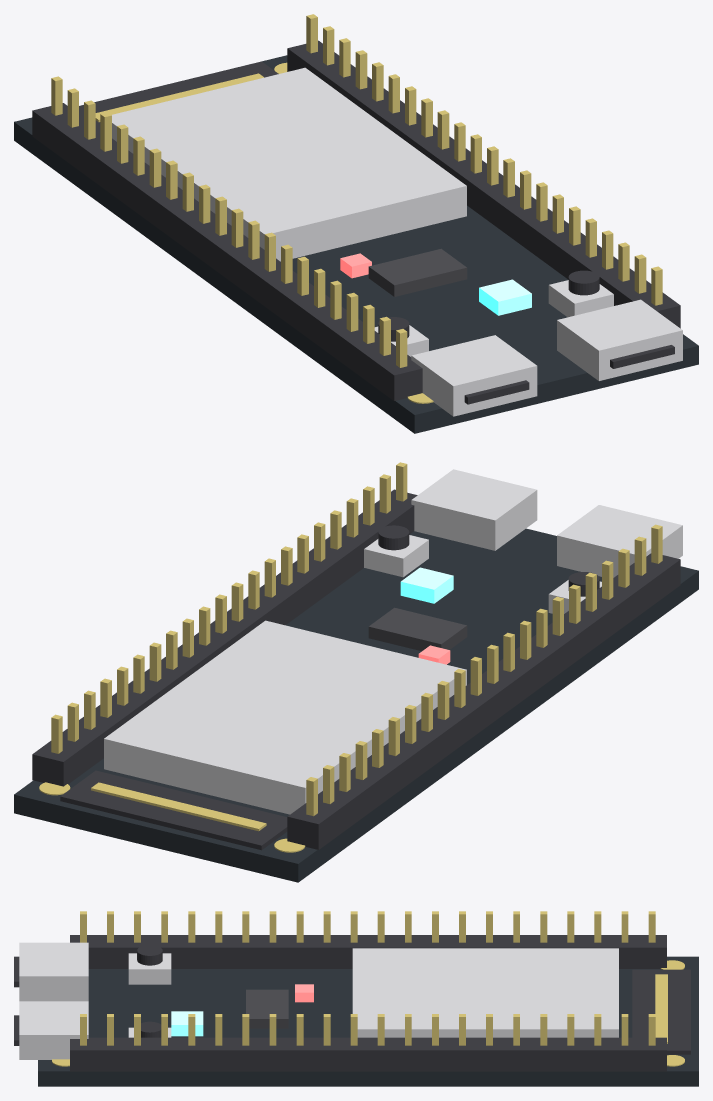
The model's file is esp32_s3_devkitc1_v1_1.glb.
3 renders of one model, top to bottom at view 1: azimuth 30°, elevation 25°; view 2: azimuth 150°, elevation 25°; view 3: azimuth 270°, elevation 25°, orthographic. The views are drawn at different scales.
Visible parts, largest first — view 1: ESP32_S3_Shield, ESP32_S3_PCB, Header_J1_Base, Header_J3_Base, USB_UART, USB_OTG, LDO_Regulator, PCB_Antenna_Keepout, Button_BOOT_Base, WS2812_RGB_LED, Antenna_Trace, Button_BOOT_Cap (+2 smaller); view 2: ESP32_S3_Shield, ESP32_S3_PCB, Header_J1_Base, Header_J3_Base, USB_UART, PCB_Antenna_Keepout, USB_OTG, LDO_Regulator, Antenna_Trace, Button_BOOT_Base, WS2812_RGB_LED, Button_BOOT_Cap; view 3: ESP32_S3_PCB, ESP32_S3_Shield, Header_J3_Base, Header_J1_Base, USB_OTG, USB_UART, PCB_Antenna_Keepout, LDO_Regulator, Button_RESET_Base, Antenna_Trace, WS2812_RGB_LED, Button_RESET_Cap (+2 smaller).
Part boxes in pixels (x1,y1,x2,y2): ESP32_S3_Shield: (112, 67, 466, 261); ESP32_S3_PCB: (14, 55, 698, 433); Header_J1_Base: (32, 103, 422, 400); Header_J3_Base: (287, 40, 680, 328); USB_UART: (557, 299, 682, 380); USB_OTG: (411, 335, 537, 416); LDO_Regulator: (368, 248, 467, 296); PCB_Antenna_Keepout: (79, 61, 278, 129); Button_BOOT_Base: (548, 280, 613, 317); WS2812_RGB_LED: (479, 279, 531, 315); Antenna_Trace: (95, 73, 263, 122); Button_BOOT_Cap: (568, 270, 599, 295); ESP32_S3_Shield: (104, 620, 466, 814); ESP32_S3_PCB: (14, 528, 698, 882); Header_J1_Base: (287, 553, 680, 849); Header_J3_Base: (32, 489, 417, 786); USB_UART: (411, 469, 537, 550); PCB_Antenna_Keepout: (60, 770, 287, 850); USB_OTG: (557, 505, 682, 577); LDO_Regulator: (368, 607, 467, 651); Antenna_Trace: (91, 782, 266, 831); Button_BOOT_Base: (364, 535, 428, 577); WS2812_RGB_LED: (400, 567, 453, 603); Button_BOOT_Cap: (378, 525, 409, 550); ESP32_S3_PCB: (38, 956, 698, 1086); ESP32_S3_Shield: (352, 948, 618, 1037); Header_J3_Base: (70, 1037, 666, 1071); Header_J1_Base: (70, 935, 666, 968); USB_OTG: (19, 942, 88, 1001); USB_UART: (19, 1001, 88, 1059); PCB_Antenna_Keepout: (632, 969, 690, 1054); LDO_Regulator: (246, 989, 288, 1028); Button_RESET_Base: (128, 953, 171, 984); Antenna_Trace: (655, 974, 667, 1043); WS2812_RGB_LED: (171, 1011, 203, 1036); Button_RESET_Cap: (137, 945, 162, 965).
Size of the model in its own units: 2.56 by 0.685 by 6.42.
